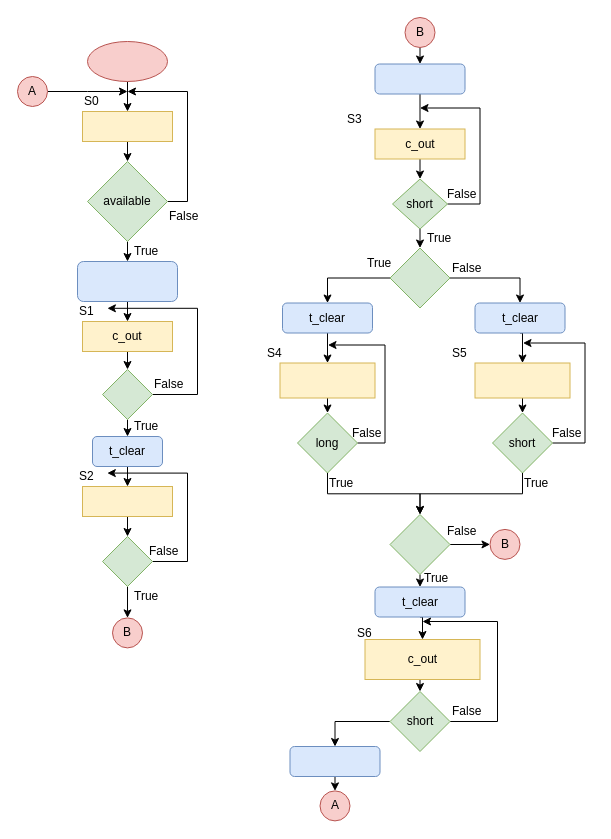
Some shapes in this 611 by 839 pixel diagram are drawn without their labels. Here are the shapes that lost their labels. From the top down, the centre of each, then its label:
(x=127, y=61): nrst
(x=419, y=78): s_enable t_clear
(x=127, y=126): t_clear, clear, ready
(x=127, y=281): r_set, t_clear
(x=419, y=277): d_bit
(x=127, y=394): b_long
(x=127, y=561): b_short
(x=419, y=544): last
(x=334, y=761): ready
